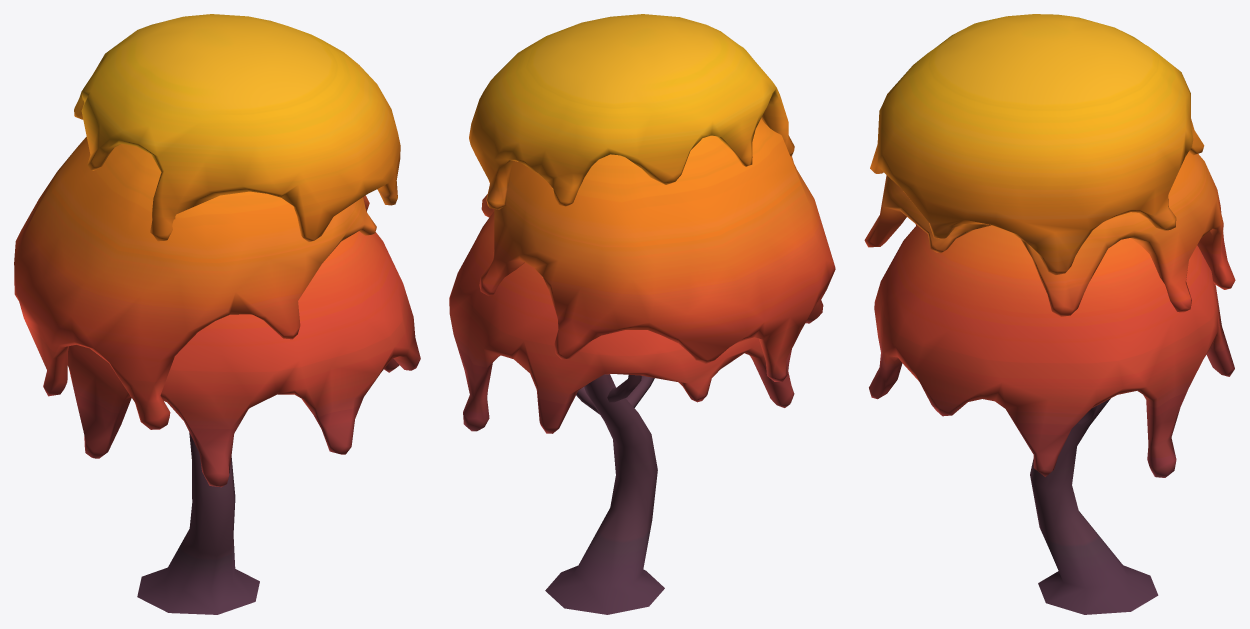
Rendered from Tree_7.fbx.
3 renders of one model, left to right at view 1: azimuth 30°, elevation 25°; view 2: azimuth 150°, elevation 25°; view 3: azimuth 270°, elevation 25°, orthographic. The views are drawn at different scales.
Visible parts, largest first — view 1: Tree_7; view 2: Tree_7; view 3: Tree_7.
Boxes of the visible parts, x1,y1,x2,y2 form: Tree_7: (14,14,420,614); Tree_7: (449,14,835,614); Tree_7: (864,14,1235,614).
Size of the model in its own units: 272 by 417 by 254.
